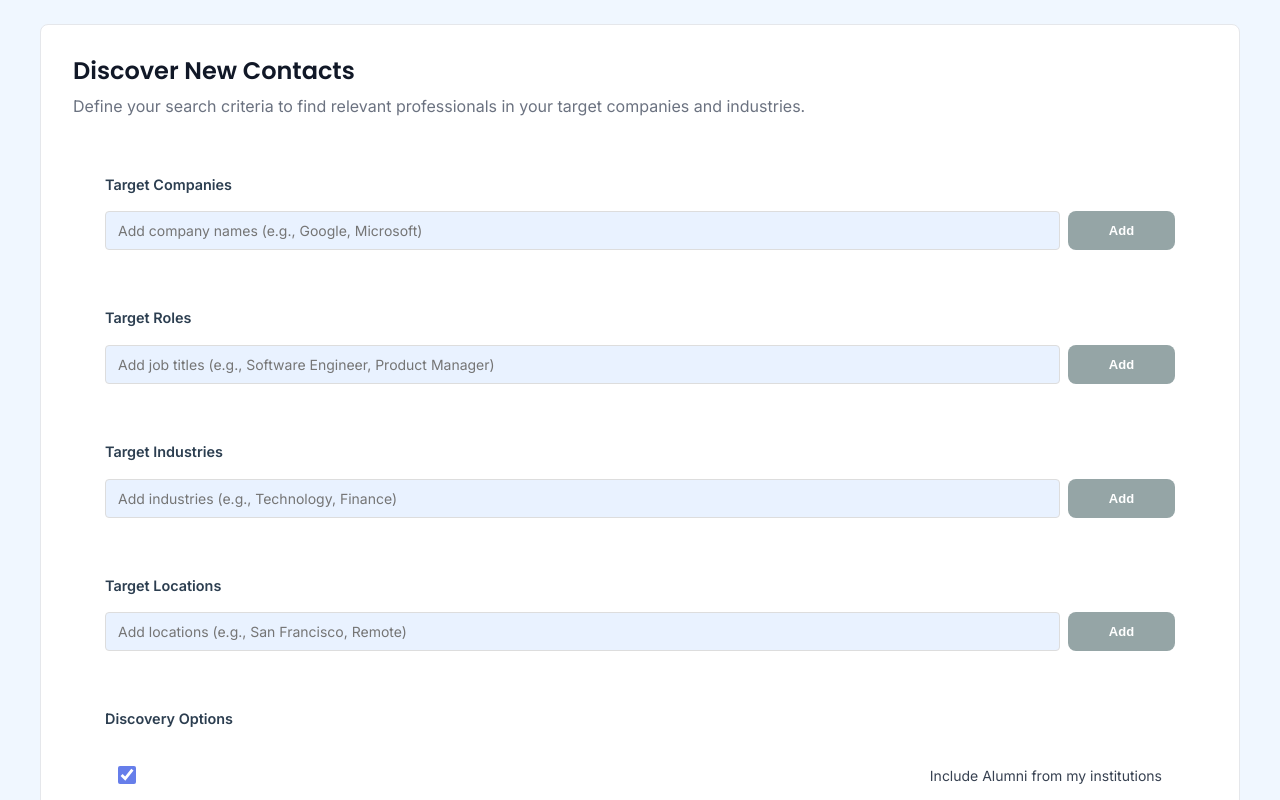
DiscoverySearchForm › adds multiple roles
Type "Software Engineer" into the field with placeholder "Add job titles (e.g., Software Engineer, Product Manager)" at coordinates (582, 364), box x1=105 y1=345 x2=1060 y2=384
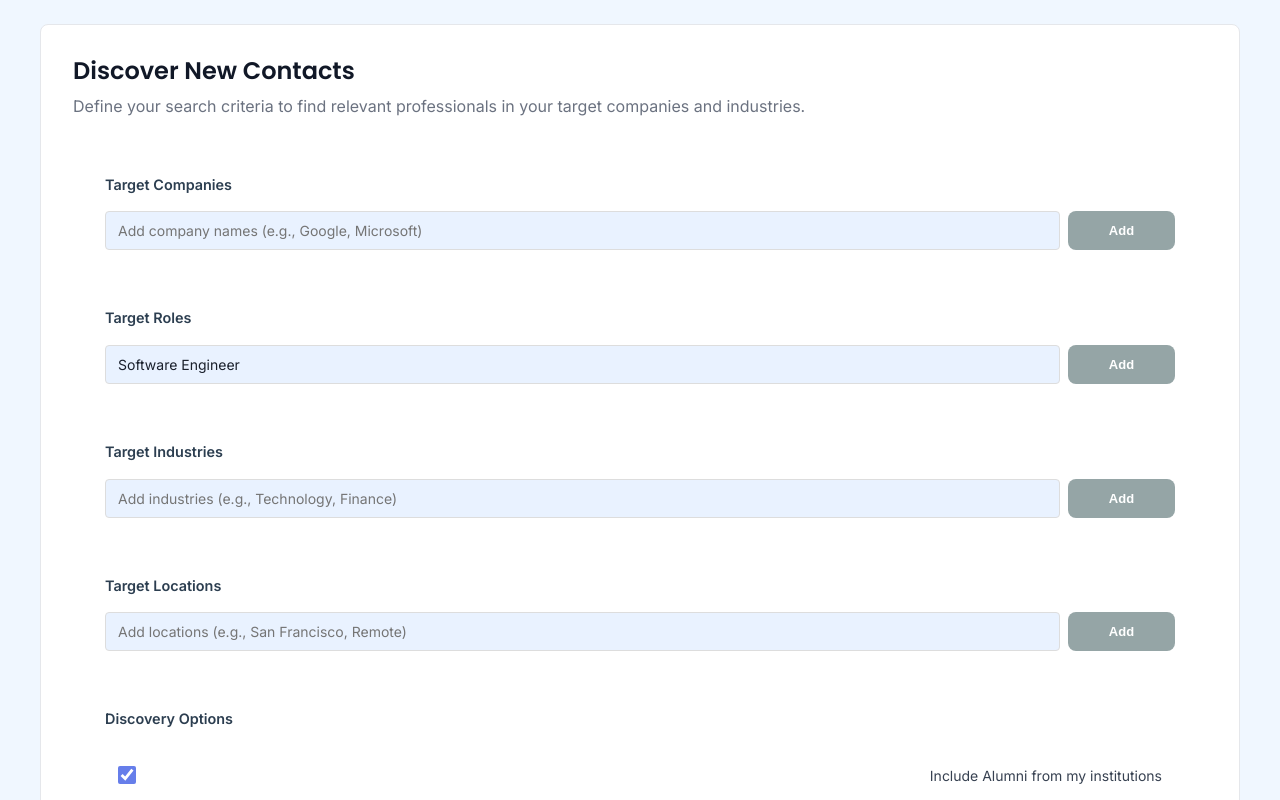
Click the 2nd button "Add" at coordinates (1122, 364), box x1=1068 y1=345 x2=1175 y2=384
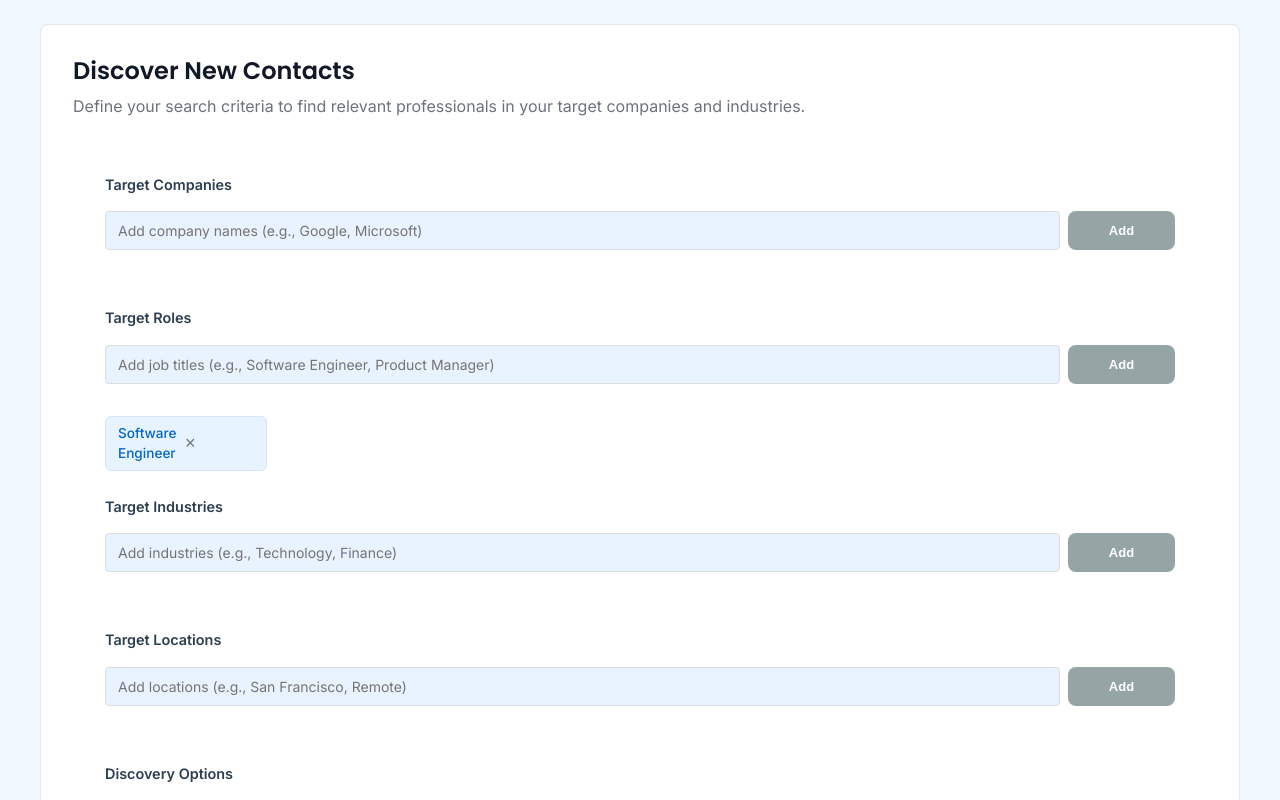
Type "Product Manager" into the field with placeholder "Add job titles (e.g., Software Engineer, Product Manager)" at coordinates (582, 364), box x1=105 y1=345 x2=1060 y2=384
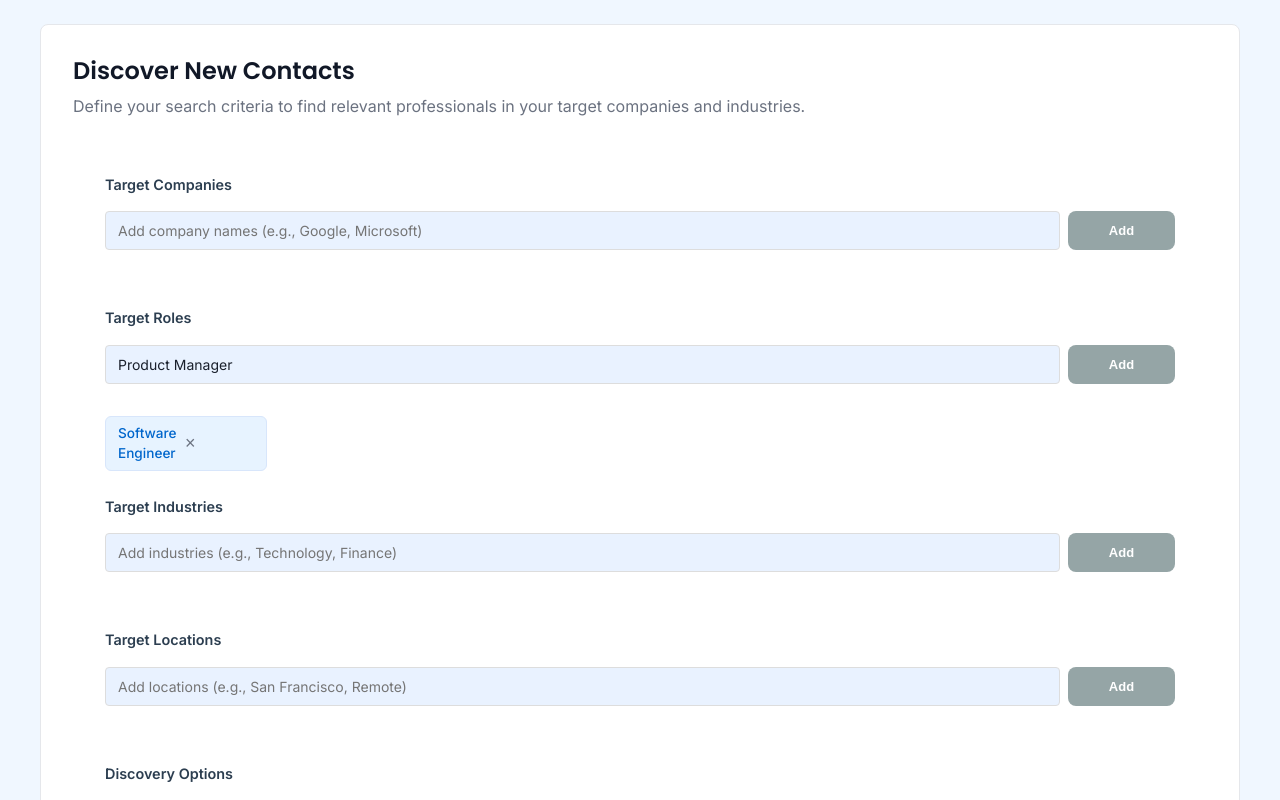
Click the 2nd button "Add" at coordinates (1122, 364), box x1=1068 y1=345 x2=1175 y2=384
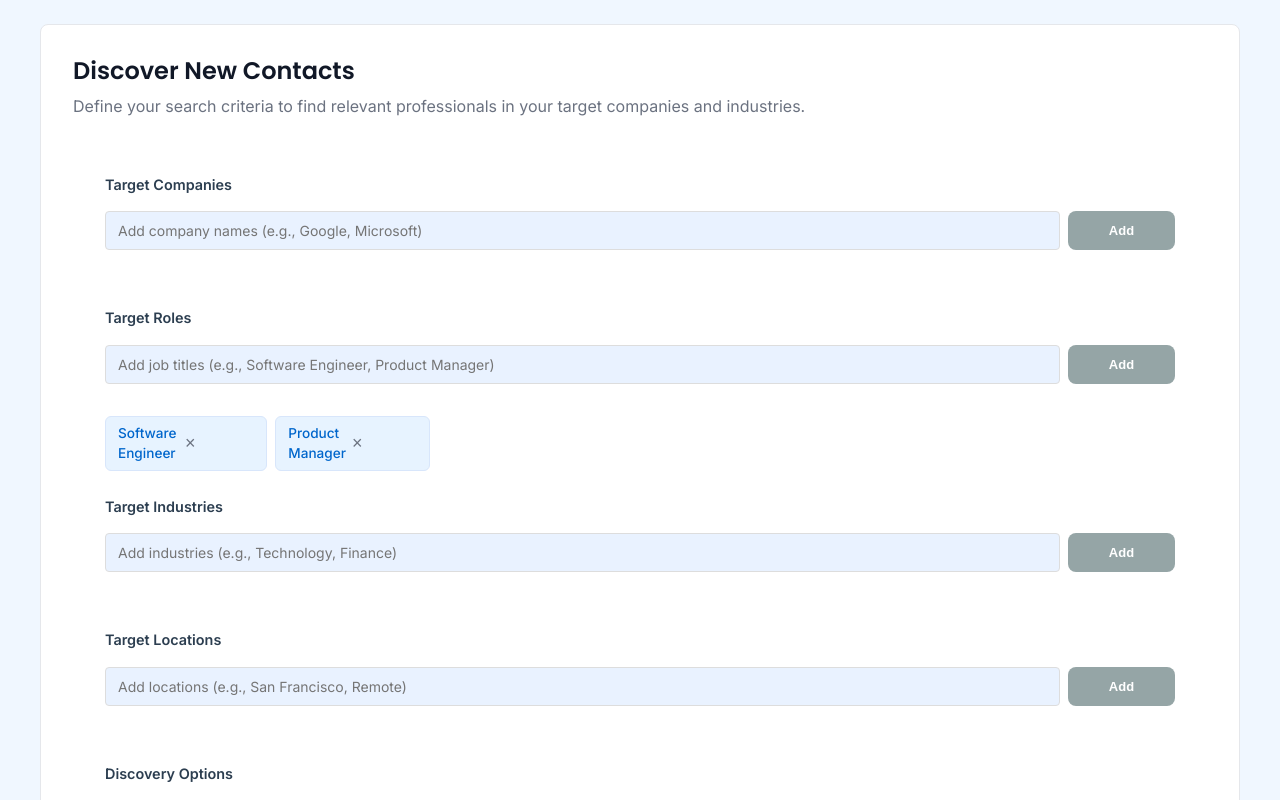
Check: the text "Software Engineer" is shown, box x1=118 y1=425 x2=176 y2=461
Check: the text "Product Manager" is shown, box x1=288 y1=425 x2=346 y2=461
